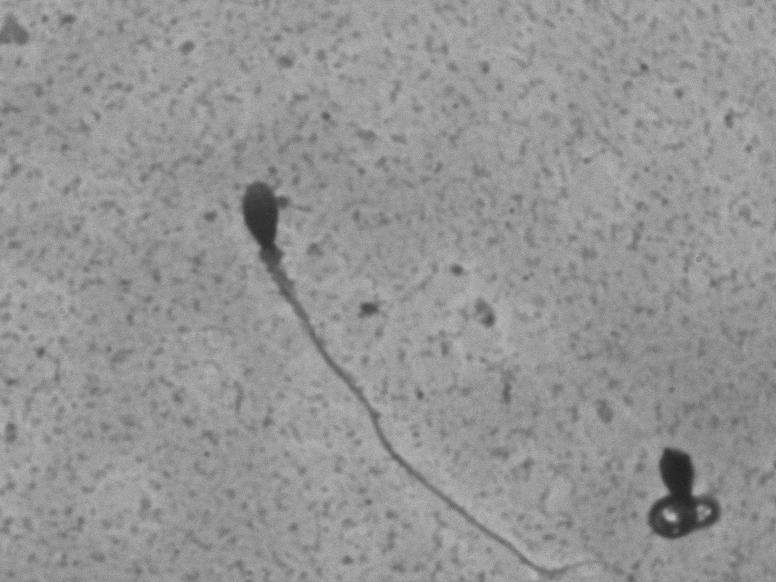Abnormal: (189, 165, 428, 540)
